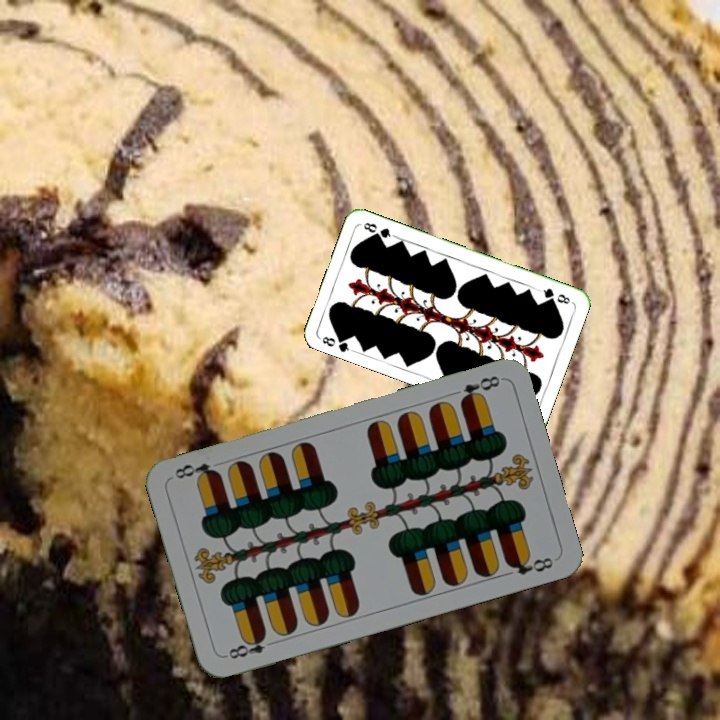E8: (446, 371, 503, 407), (221, 630, 280, 662)
G8: (316, 331, 355, 355), (535, 284, 573, 307)
